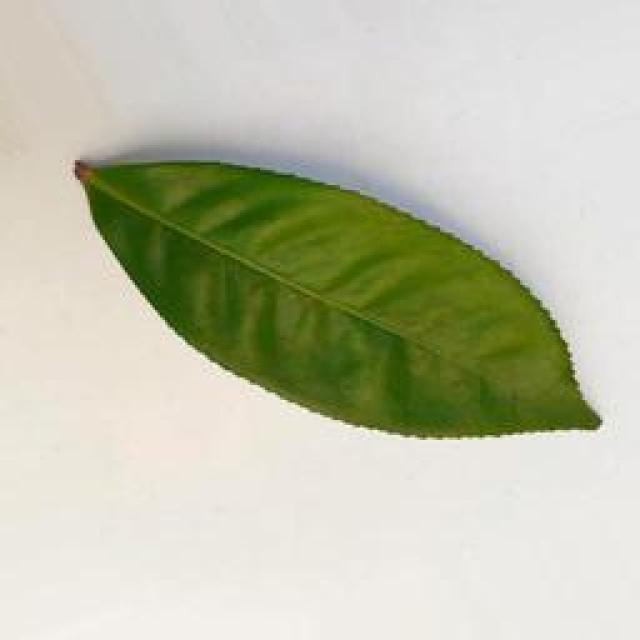Healthy: (70, 161, 610, 449)
